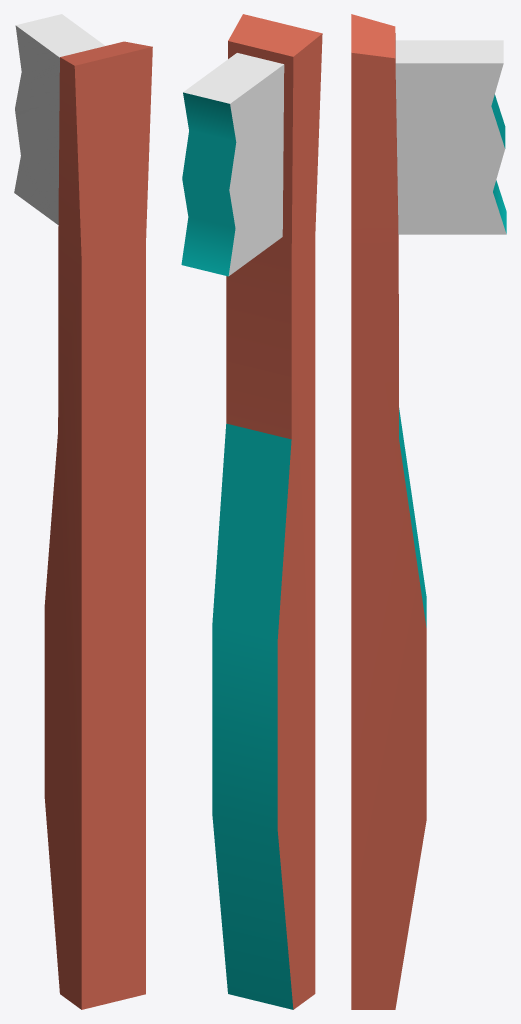
File: _scova.fbx
The picture shows the model from 3 angles, left to right: view 1: azimuth 30°, elevation 25°; view 2: azimuth 150°, elevation 25°; view 3: azimuth 270°, elevation 25°; orthographic projection.
Parts seen in each view (by area): view 1: Cube.001; view 2: Cube.001; view 3: Cube.001.
Part boxes in pixels (x1,y1,x2,y2): Cube.001: (14, 14, 152, 1009); Cube.001: (181, 14, 322, 1009); Cube.001: (351, 14, 506, 1009).
Bounding box in the file's own units: 38.86 × 449 × 65.87.
